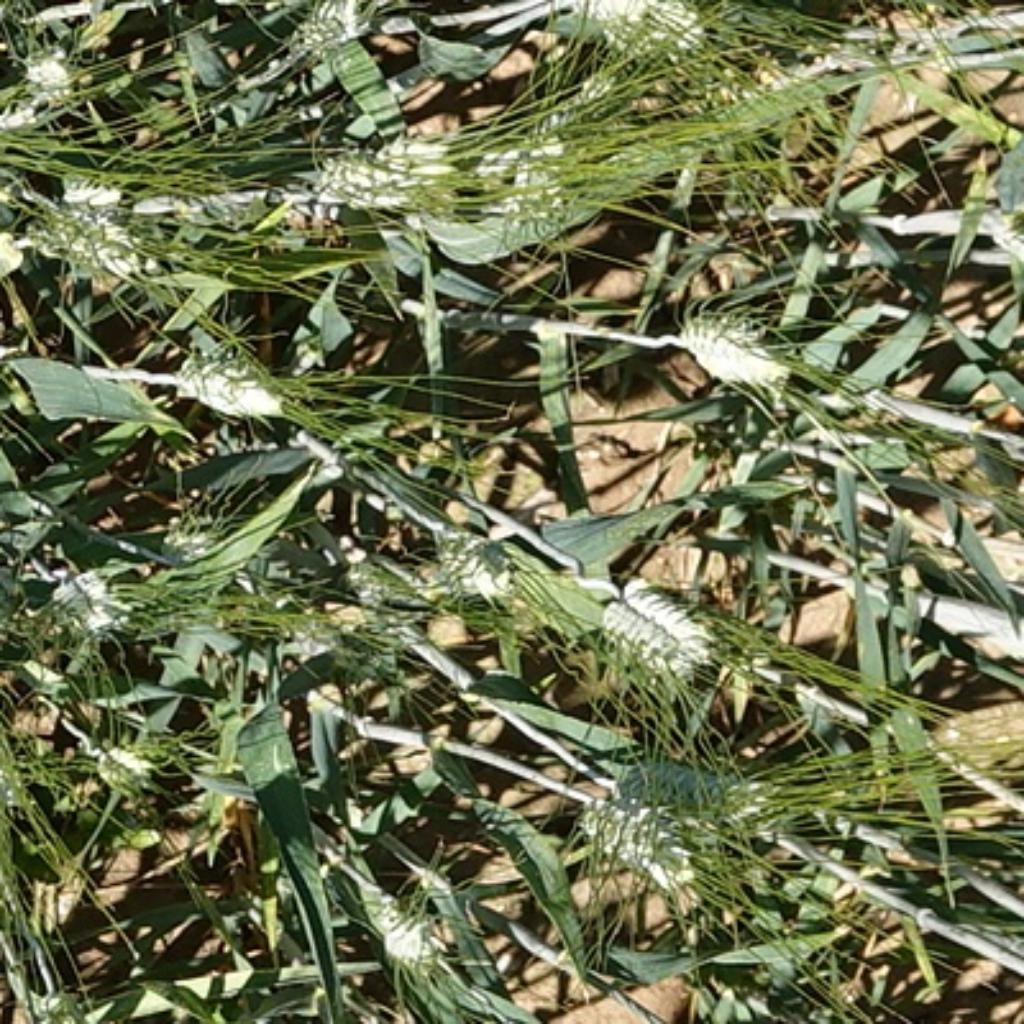0-0: (563, 791, 734, 898), (289, 115, 465, 217), (486, 64, 632, 184), (593, 563, 718, 683), (166, 317, 299, 422), (33, 550, 176, 642), (348, 857, 455, 977), (40, 197, 156, 304), (665, 291, 791, 389), (412, 509, 519, 606), (547, 0, 701, 58), (153, 488, 248, 576), (309, 552, 419, 622), (84, 726, 171, 798), (279, 0, 381, 61), (16, 43, 83, 112), (0, 92, 51, 138)
